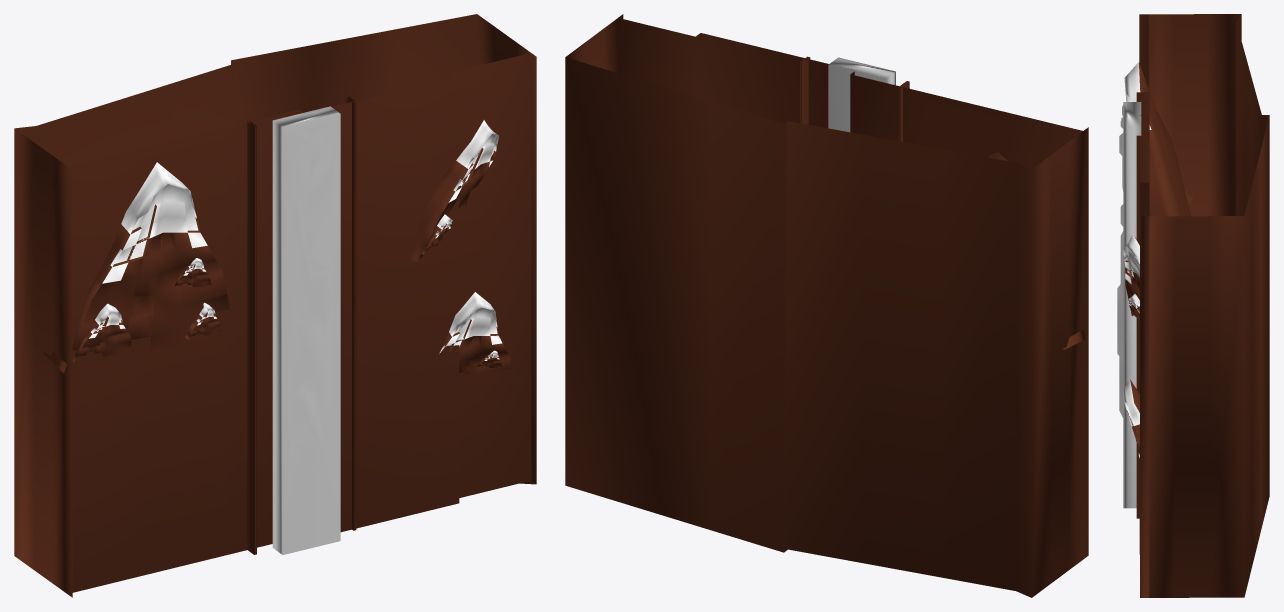
The model's file is WATERFALL2O (4).fbx.
3 renders of one model, left to right at view 1: azimuth 30°, elevation 25°; view 2: azimuth 150°, elevation 25°; view 3: azimuth 270°, elevation 25°, orthographic. The views are drawn at different scales.
Visible parts, largest first — view 1: Cube.001, Cube.003, Cube.005, Cube.007; view 2: Cube.001, Cube.003; view 3: Cube.001, Cube.003, Cube.007, Cube.005.
Part boxes in pixels (bbox=[...]): Cube.001: bbox=[14, 14, 536, 597]; Cube.003: bbox=[272, 106, 340, 554]; Cube.005: bbox=[247, 121, 256, 554]; Cube.007: bbox=[346, 96, 356, 530]; Cube.001: bbox=[565, 14, 1088, 597]; Cube.003: bbox=[828, 57, 895, 132]; Cube.001: bbox=[1122, 14, 1269, 597]; Cube.003: bbox=[1117, 102, 1141, 508]; Cube.007: bbox=[1136, 135, 1149, 518]; Cube.005: bbox=[1136, 92, 1149, 135].
Size of the model in its own units: 7318 by 6411 by 2314.
